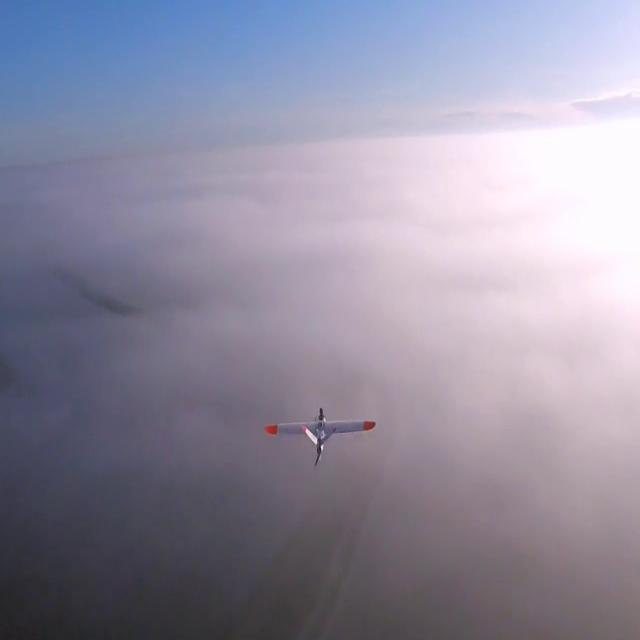iha: (295, 411, 346, 460)
